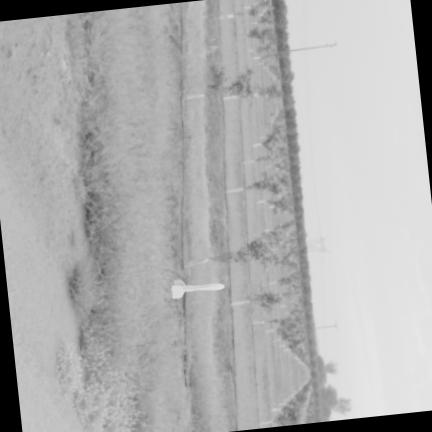Shahed: (171, 280, 224, 298)
